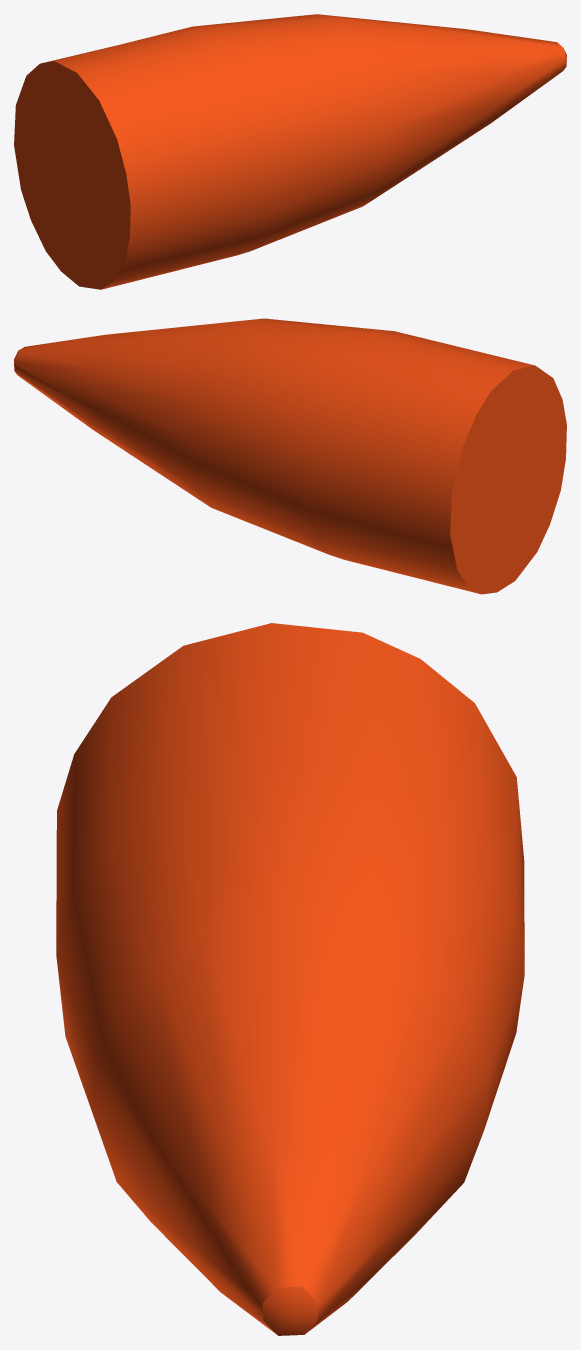
File: bala_ardente.obj
3 renders of one model, top to bottom at view 1: azimuth 30°, elevation 25°; view 2: azimuth 150°, elevation 25°; view 3: azimuth 270°, elevation 25°, orthographic. The views are drawn at different scales.
Size of the model in its own units: 0.0556 by 0.0228 by 0.0228.
